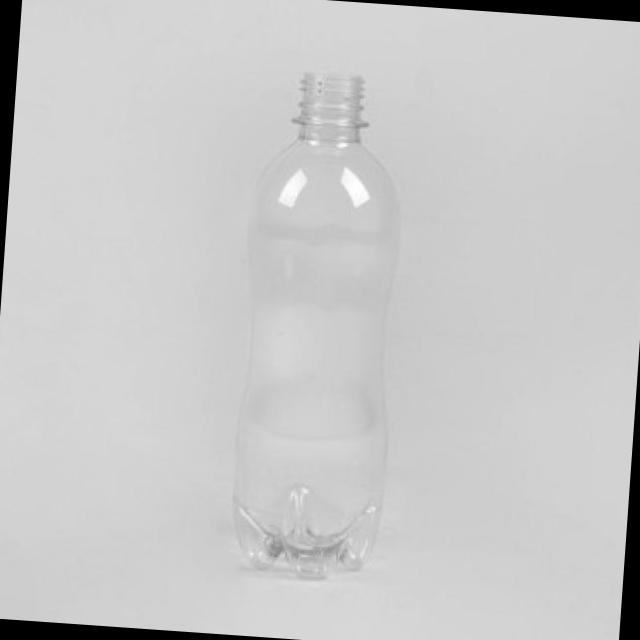plastic_bottle: (224, 65, 406, 575)
